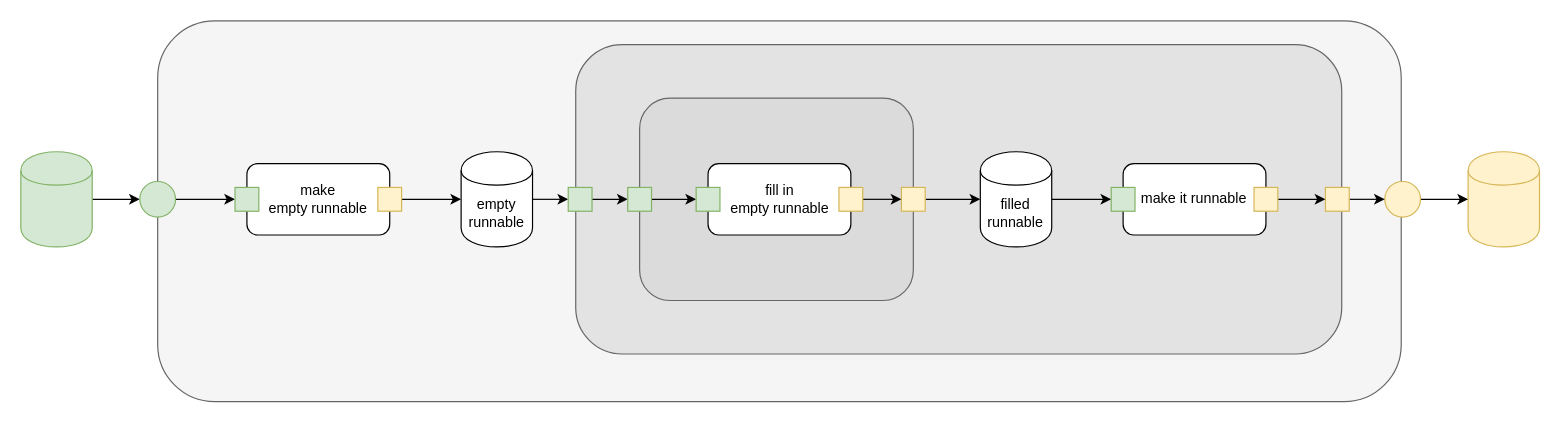
The diagram is 1561 pixels wide and 422 high, and some of its shapes have lost their labels. Here are the shapes that lost their labels. From the top down, the centre of each, then its label:
At point (56, 199): "template".
At point (1503, 199): "runnable".
